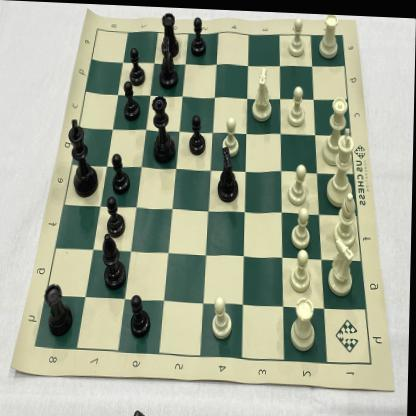black-king: (68, 114, 101, 200)
black-knight: (98, 231, 130, 292)
black-pawn: (129, 290, 157, 338), (105, 192, 129, 238), (111, 150, 132, 196), (187, 109, 208, 154), (188, 13, 209, 57), (121, 79, 142, 122), (128, 45, 149, 86)
black-queen: (150, 90, 178, 167)
black-rook: (44, 279, 77, 338), (159, 8, 181, 57)
white-bishop: (333, 185, 362, 245)
white-king: (325, 123, 358, 206)
white-knight: (329, 232, 359, 295), (216, 144, 243, 202), (250, 62, 276, 120), (157, 33, 181, 89)
white-pawn: (211, 290, 236, 339), (290, 245, 315, 291), (290, 203, 314, 247), (286, 81, 308, 127), (288, 161, 311, 205), (222, 112, 242, 156), (287, 14, 307, 55)
white-queen: (321, 91, 351, 164)
white-rook: (290, 292, 320, 351), (317, 11, 342, 57)
